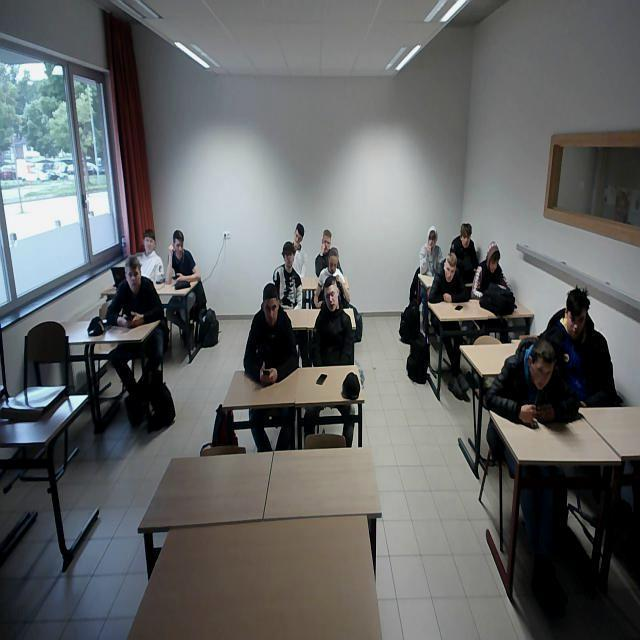Looking away: (566, 291, 591, 338), (321, 278, 339, 313), (326, 247, 341, 274), (424, 224, 438, 250)
Looking forward: (442, 254, 459, 284), (459, 222, 474, 248), (282, 242, 297, 268), (143, 229, 158, 254)
Phone use: (468, 336, 577, 438), (235, 280, 302, 393), (99, 254, 160, 334), (163, 220, 210, 294)
